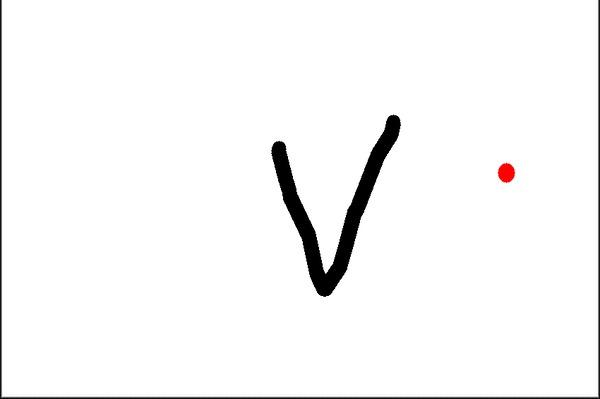V: (262, 109, 404, 305)
